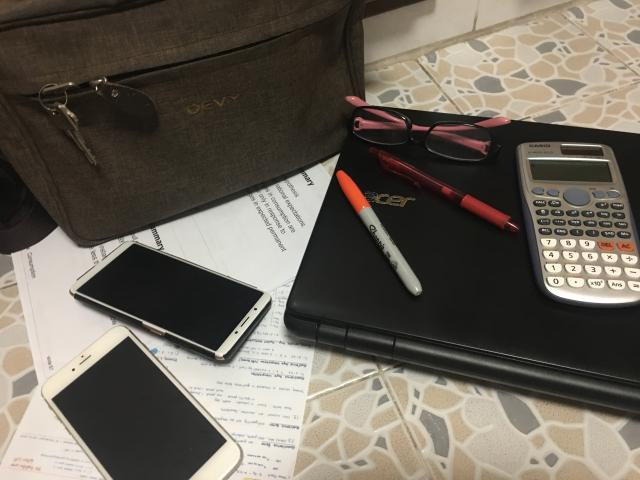Glasses: (350, 101, 500, 161)
Keys: (39, 82, 98, 165)
Mobile phone: (41, 326, 242, 479), (70, 241, 271, 361)
Pen: (369, 148, 520, 232), (336, 170, 422, 296)
paper: (0, 165, 330, 479)
